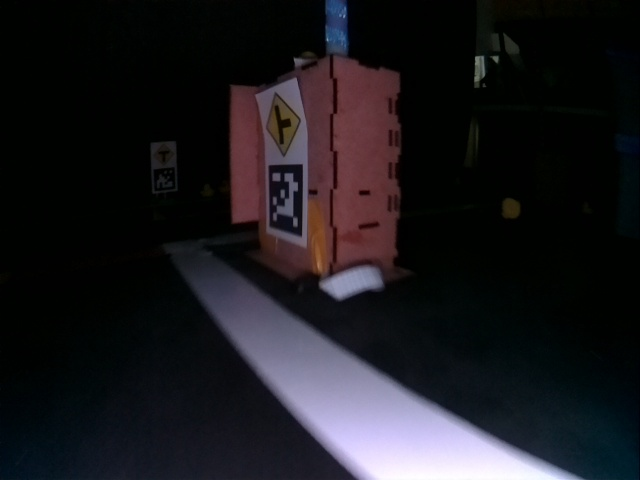Duckie: (502, 197, 520, 218), (200, 184, 213, 196), (219, 182, 229, 191)
Intersection sign: (263, 91, 302, 155), (153, 144, 175, 165)
QR code: (268, 164, 303, 237), (153, 167, 176, 191)
